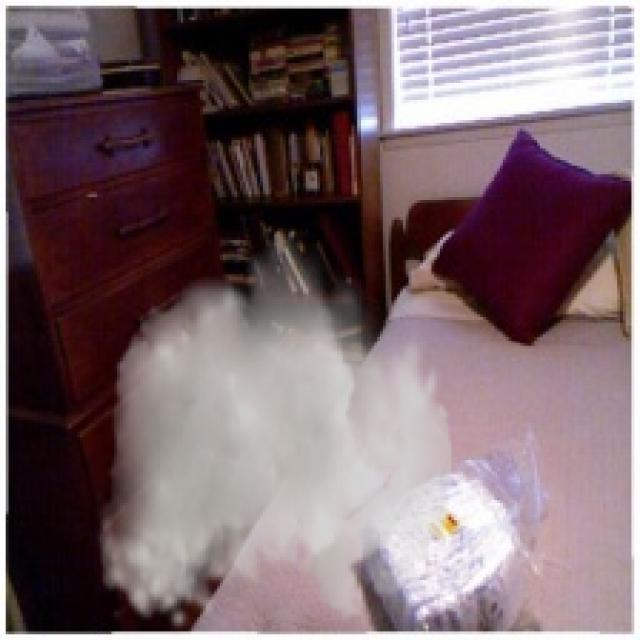Smoke: (97, 226, 454, 634)
